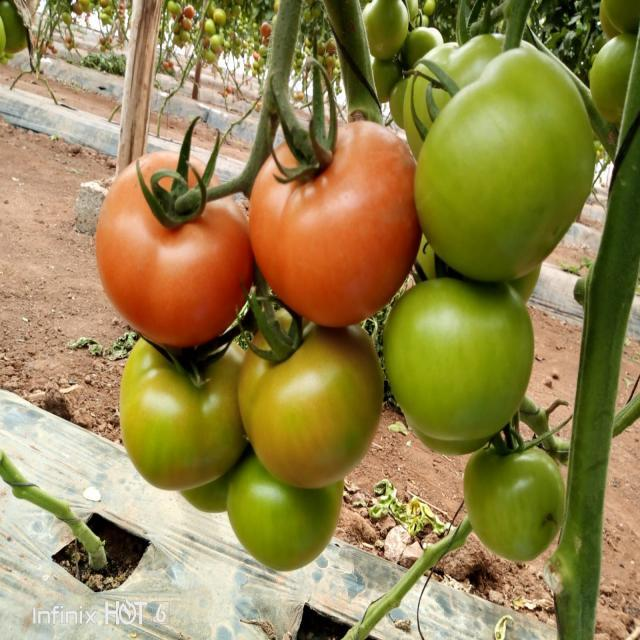Ripe Tomato: (94, 144, 253, 334), (260, 138, 413, 332)
Unripe Tomato: (424, 59, 600, 272), (241, 314, 391, 488), (376, 284, 535, 448), (112, 346, 238, 502), (458, 438, 578, 558), (230, 478, 354, 572), (582, 25, 636, 128)
